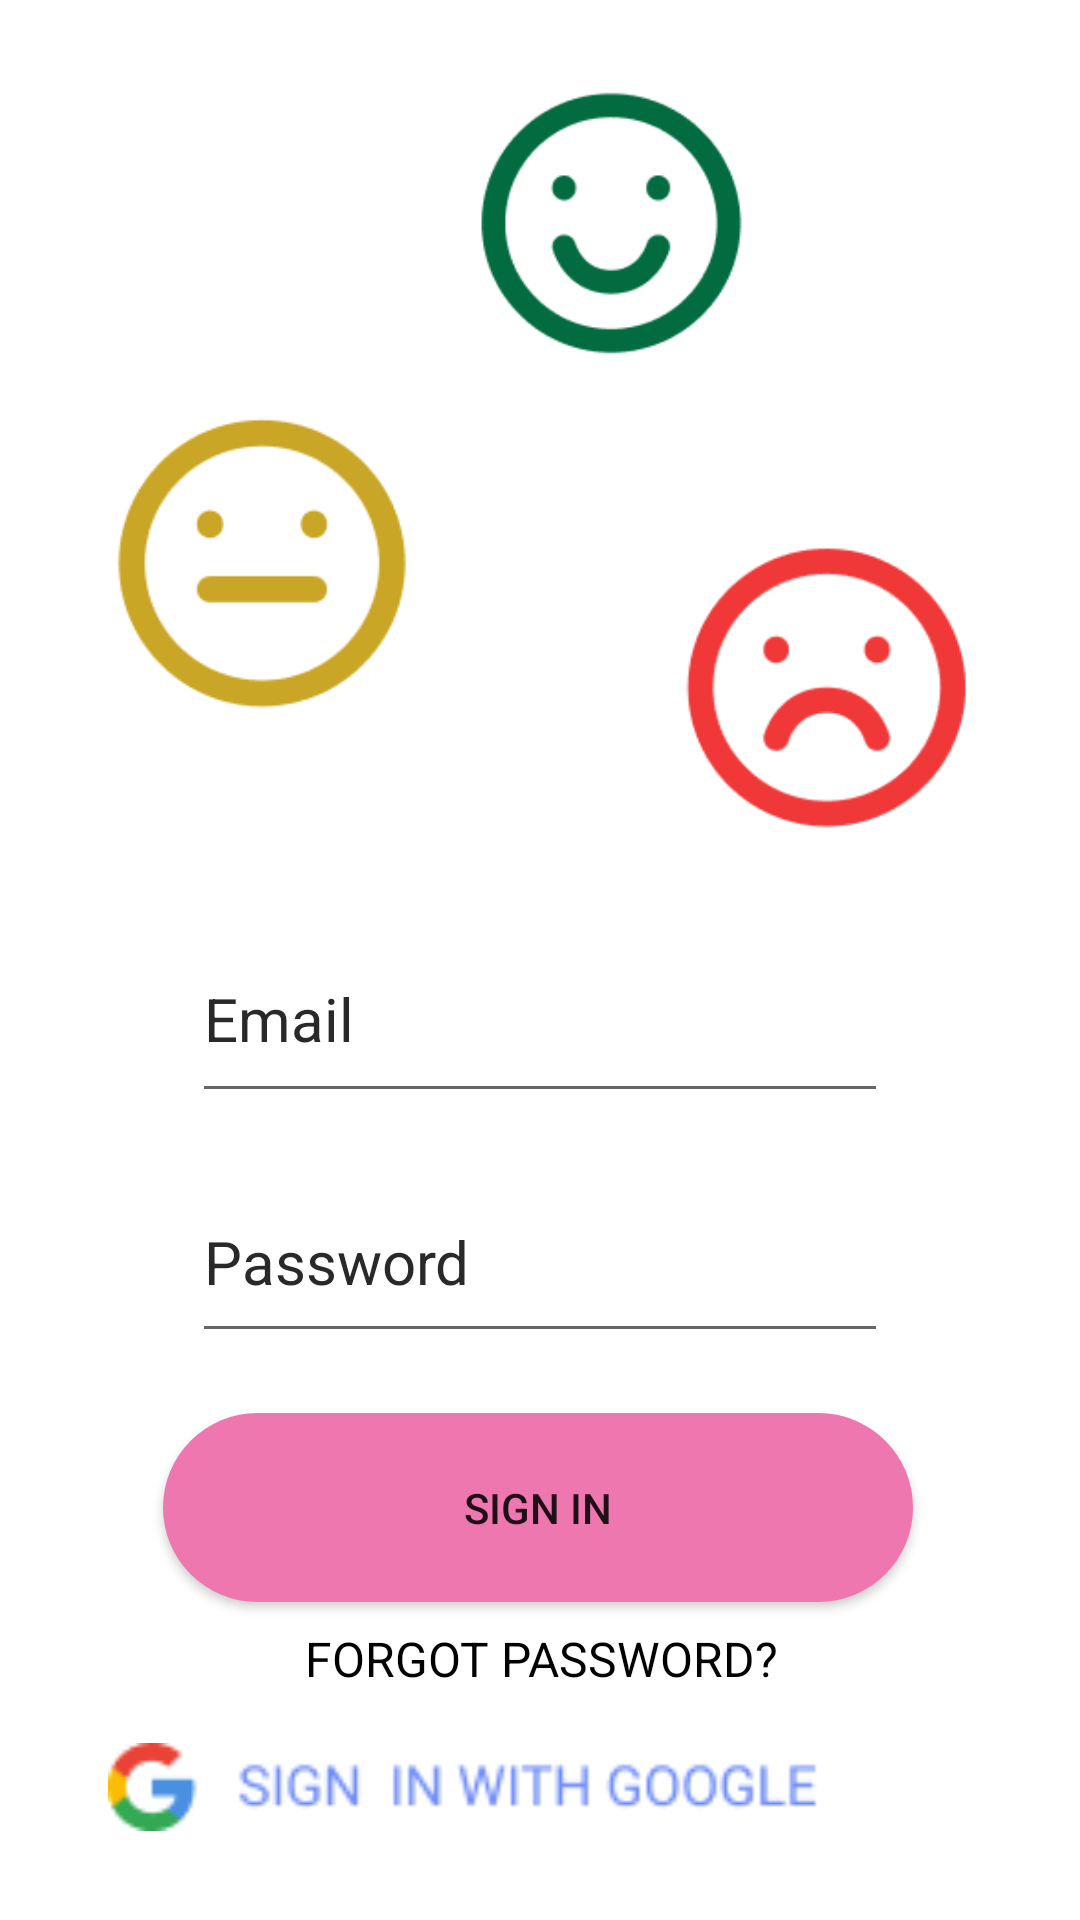

Locate icon controls on the screen. Image size 1080 × 1920, boxes as (x1, y1, x2, y2).
iconface: (118, 419, 406, 708)
iconsad: (686, 548, 966, 828)
iconsmile: (481, 93, 742, 354)
